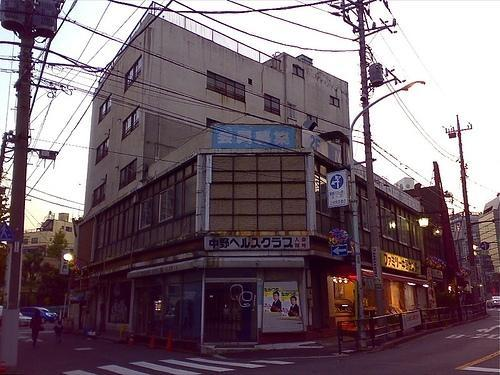car: (20, 306, 58, 320), (486, 295, 500, 310), (19, 312, 32, 326)
